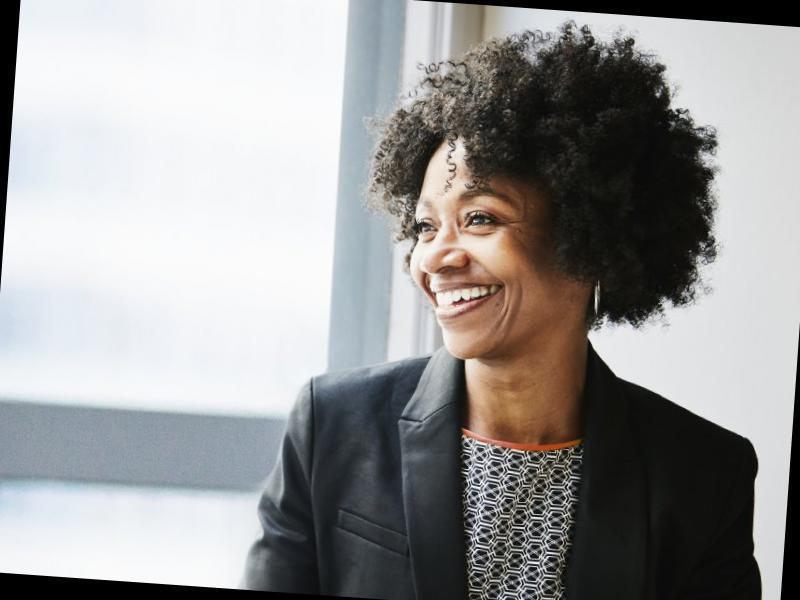Sober: (412, 137, 547, 366)
